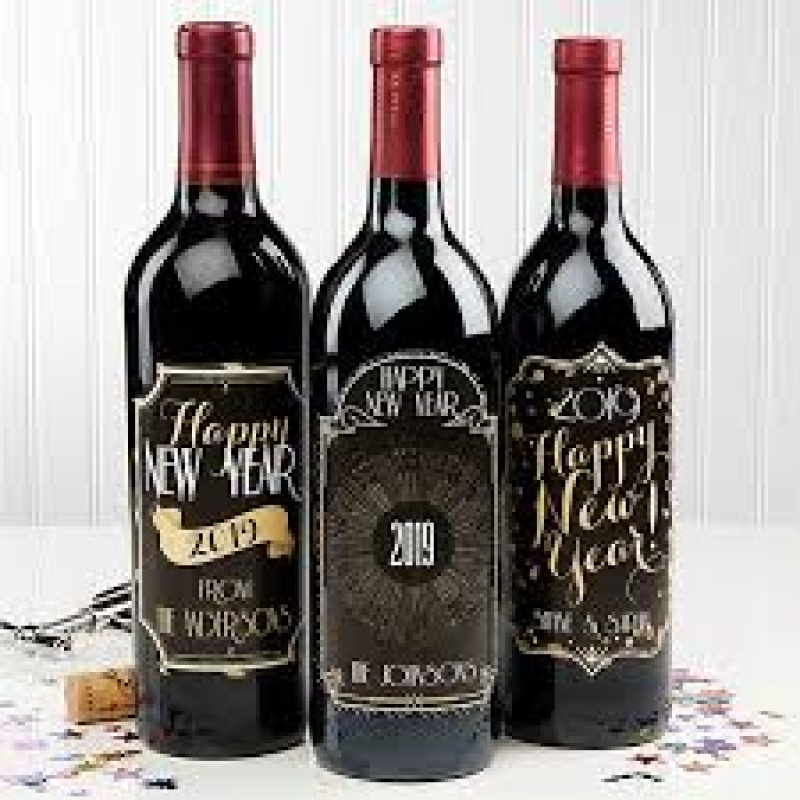wine: (123, 22, 314, 763), (316, 28, 489, 765), (491, 37, 666, 738)
